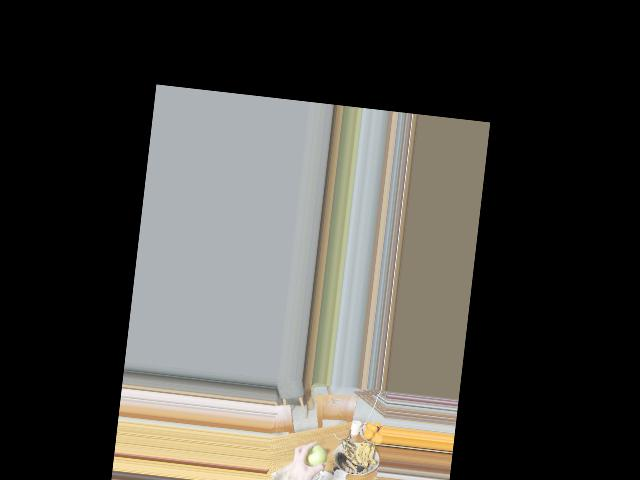apple: (302, 439, 329, 471)
